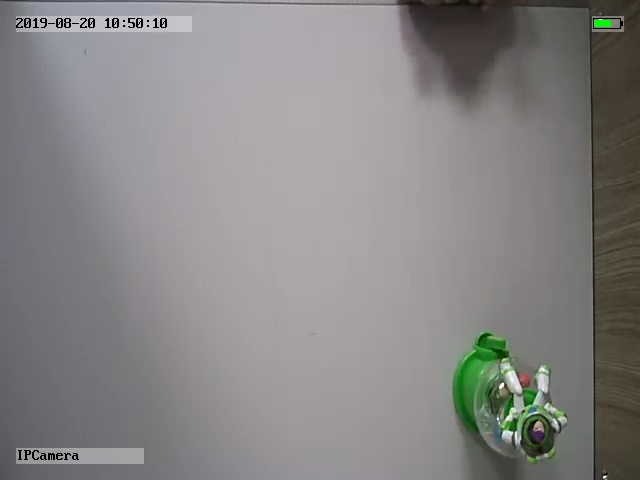buzz: (450, 331, 569, 466)
